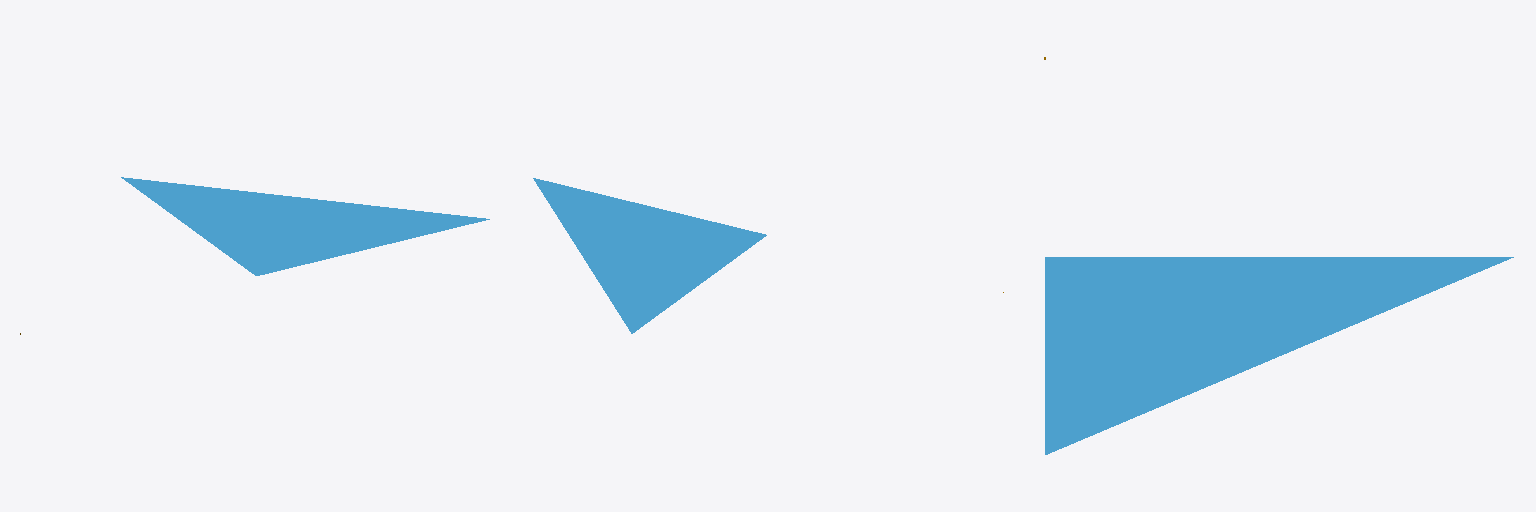
URDF robot description (external):
<robot name="external"><link name="base"><visual><geometry><box size="0.002 0.004 0.006"/></geometry></visual></link><link name="arm"><visual><geometry><mesh filename="triangle.stl" scale="1 1 1"/></geometry></visual></link><joint name="hinge" type="revolute"><parent link="base"/><child link="arm"/><origin xyz="1 0 0" rpy="0 0 0"/><axis xyz="0 0 1"/><limit lower="-1" upper="1" effort="10" velocity="2"/></joint></robot>

--- Facts derived from the render (not from the file) ---
3 views of the same robot in one strip: view 1: azimuth 30°, elevation 25°; view 2: azimuth 150°, elevation 25°; view 3: azimuth 270°, elevation 25° (orthographic).
Model external with 2 links and 1 joints (1 revolute), rooted at base, posed all joints at 0.
Links seen in each view (by area): view 1: arm; view 2: arm; view 3: arm.
Link boxes in pixels (x1=…): arm: x1=121, y1=177, x2=489, y2=275; arm: x1=533, y1=178, x2=766, y2=333; arm: x1=1045, y1=257, x2=1513, y2=454.
Bounding box of the posed robot: 2 × 1 × 0.006 m (x, y, z).
Meshes: 1 distinct files referenced, 1 mesh visuals loaded (1 ASCII STL).
